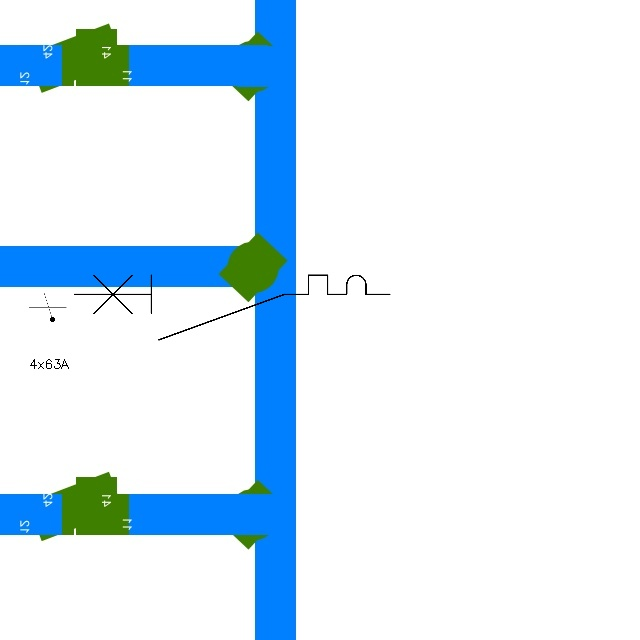interruptor_termomagnetico: (66, 267, 398, 348)
